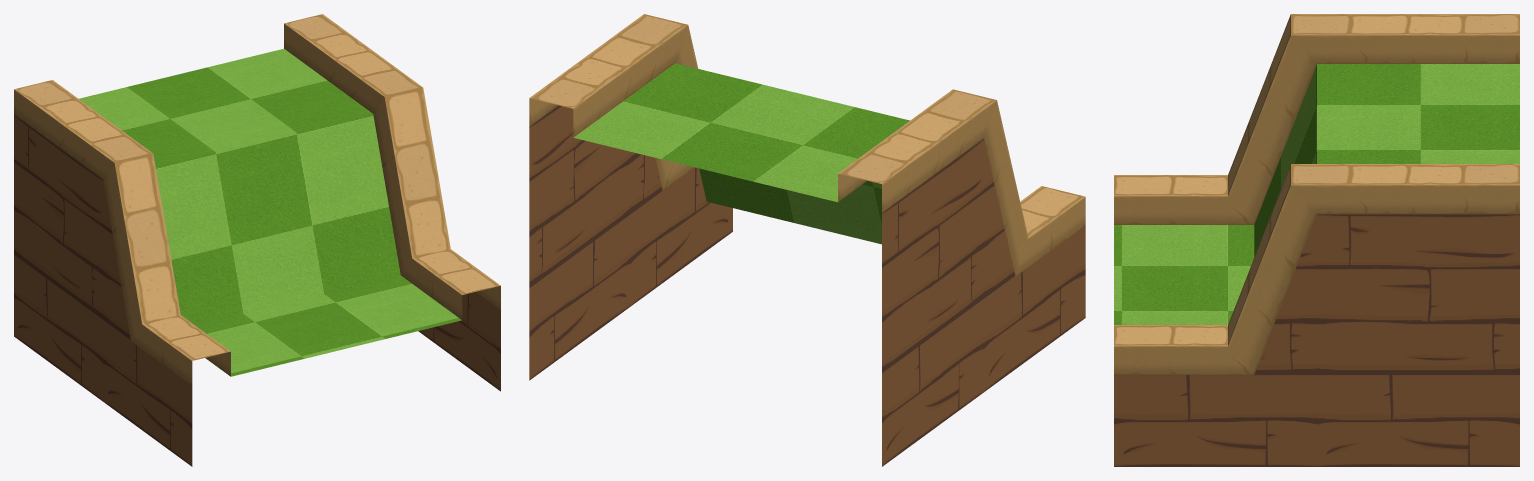
The model's file is tile02.FBX.
The picture shows the model from 3 angles, left to right: view 1: azimuth 30°, elevation 25°; view 2: azimuth 150°, elevation 25°; view 3: azimuth 270°, elevation 25°; orthographic projection. The views are drawn at different scales.
Visible parts, largest first — view 1: tile02_walls, tile02_floor01; view 2: tile02_walls, tile02_floor01; view 3: tile02_walls, tile02_floor01.
Part boxes in pixels (x1,y1,x2,y2): tile02_walls: (14, 14, 500, 466); tile02_floor01: (79, 48, 461, 376); tile02_walls: (529, 14, 1085, 466); tile02_floor01: (573, 63, 909, 244); tile02_walls: (1114, 14, 1519, 466); tile02_floor01: (1114, 64, 1519, 324).
Size of the model in its own units: 1280 by 980 by 1280.
